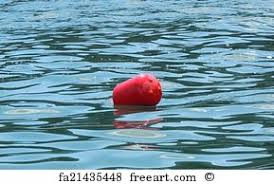buoy: (111, 73, 166, 108)
